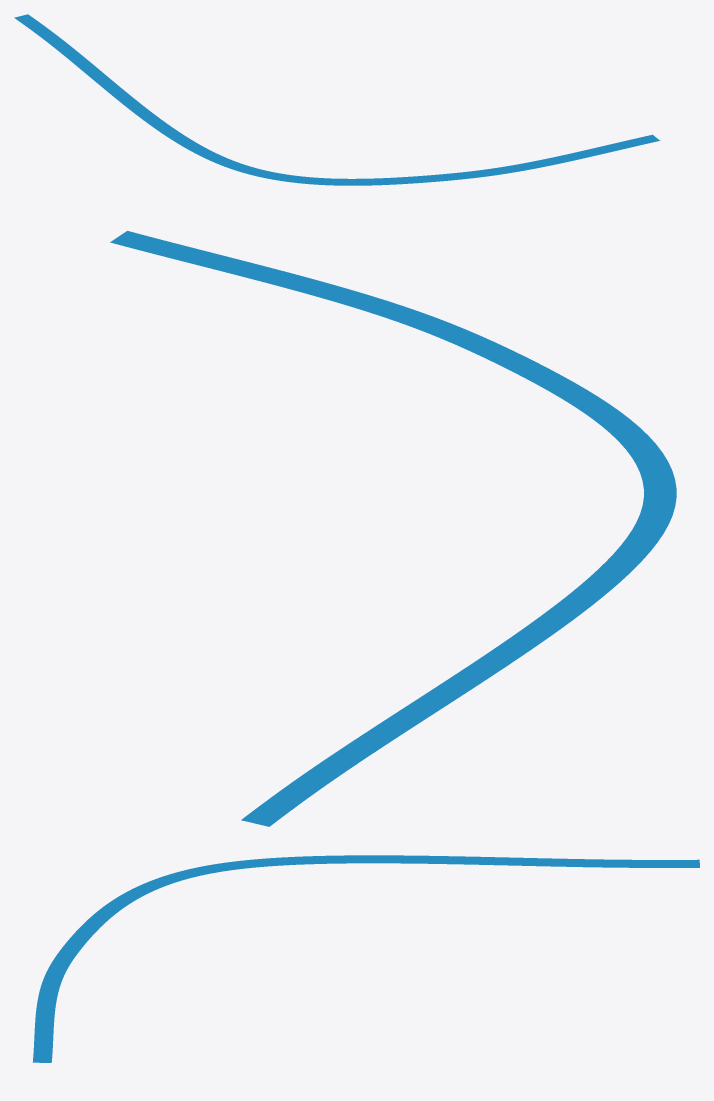
File: guide.glb
3 views of the same model, one above another, from view 1: azimuth 30°, elevation 25°; view 2: azimuth 150°, elevation 25°; view 3: azimuth 270°, elevation 25° (orthographic). The views are drawn at different scales.
Visible parts, largest first — view 1: static; view 2: static; view 3: static.
Boxes of the visible parts, x1,y1,x2,y2 form: static: (14, 14, 659, 185); static: (110, 231, 676, 826); static: (32, 855, 699, 1062).
Size of the model in its own units: 9.23 by 0 by 11.56.
